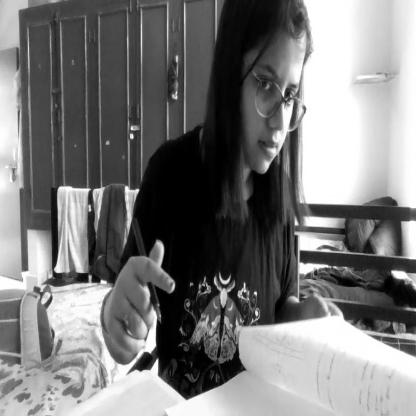Distracted: (218, 0, 313, 190)
